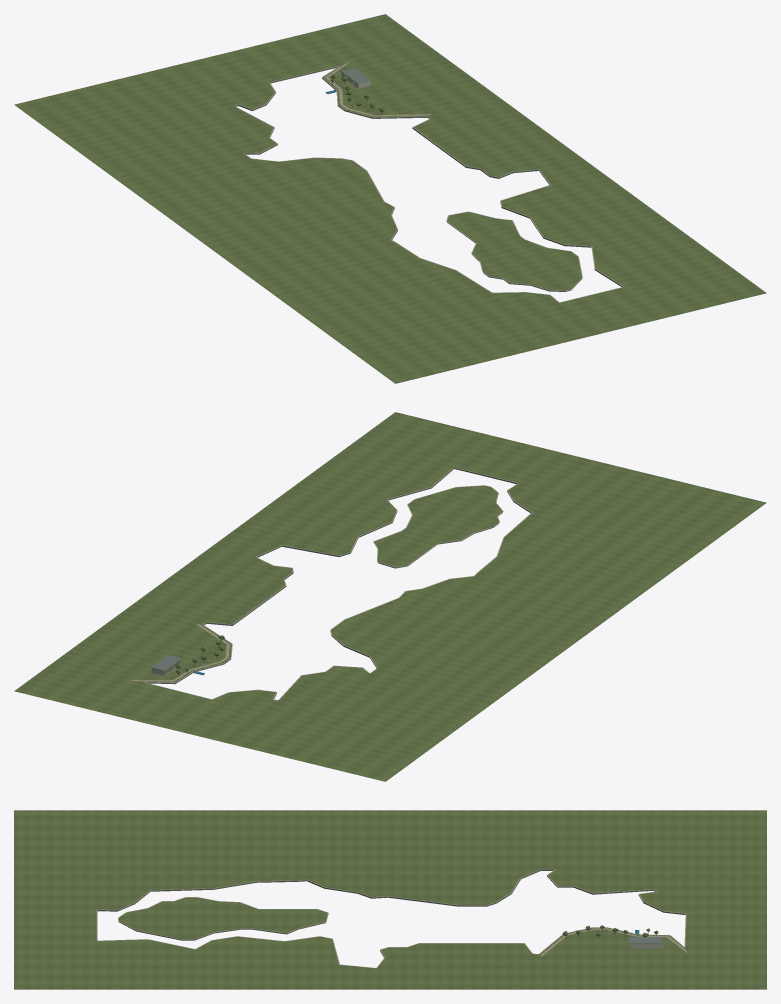
Rendered from qizhen_north_bank.glb.
3 views of the same model, one above another, from view 1: azimuth 30°, elevation 25°; view 2: azimuth 150°, elevation 25°; view 3: azimuth 270°, elevation 25° (orthographic).
Parts seen in each view (by area): view 1: Batch_grass, Batch_coping, Batch_stone_dark; view 2: Batch_grass, Batch_coping, Batch_stone_dark; view 3: Batch_grass, Batch_coping, Batch_stone_dark.
Part boxes in pixels (bbox=[...]): Batch_grass: bbox=[14, 14, 766, 383]; Batch_coping: bbox=[235, 65, 623, 302]; Batch_stone_dark: bbox=[236, 66, 622, 291]; Batch_grass: bbox=[14, 412, 766, 781]; Batch_coping: bbox=[143, 467, 531, 700]; Batch_stone_dark: bbox=[144, 468, 530, 699]; Batch_grass: bbox=[14, 810, 766, 989]; Batch_coping: bbox=[96, 869, 686, 968]; Batch_stone_dark: bbox=[97, 869, 685, 957].
Bounding box in the file's own units: 225 × 4.96 × 400.
Materials: 25 (5 with a texture image).
